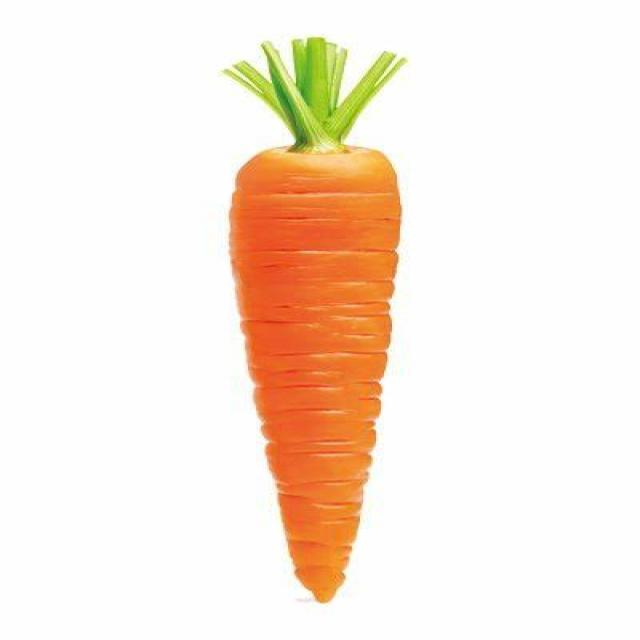Carrot: (198, 29, 386, 610)
